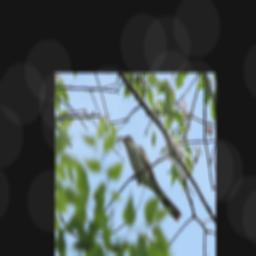Cuckoo: (118, 134, 182, 219)
